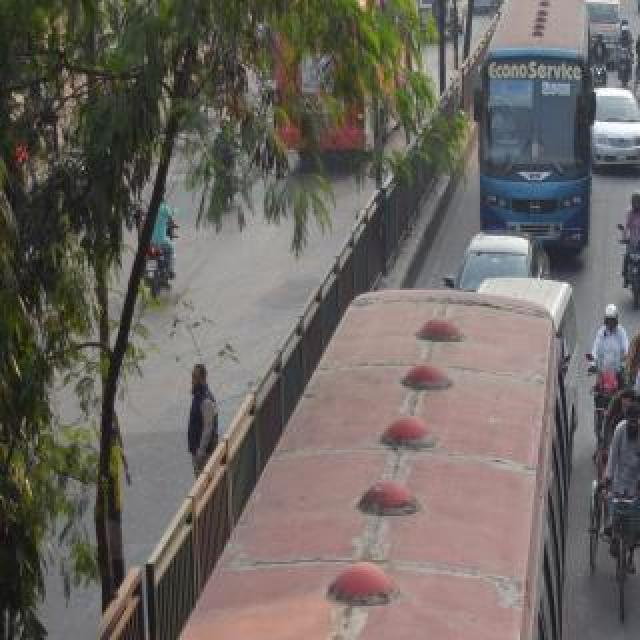bus: (256, 0, 396, 166), (481, 4, 587, 218), (14, 606, 572, 640)
car: (590, 84, 640, 182), (447, 230, 539, 274)
motorbike: (581, 290, 627, 436), (139, 167, 177, 285), (614, 192, 640, 308), (616, 13, 634, 81), (591, 34, 607, 86)
van: (490, 274, 570, 312), (590, 2, 628, 30)
